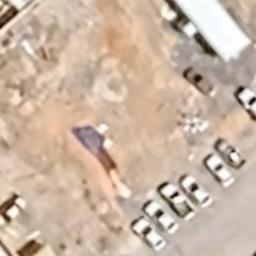sedan: (160, 183, 196, 222), (142, 198, 178, 236), (178, 174, 213, 210), (130, 217, 166, 250), (205, 152, 235, 188), (182, 66, 213, 96), (214, 140, 244, 168), (0, 198, 27, 226), (235, 87, 256, 121)
